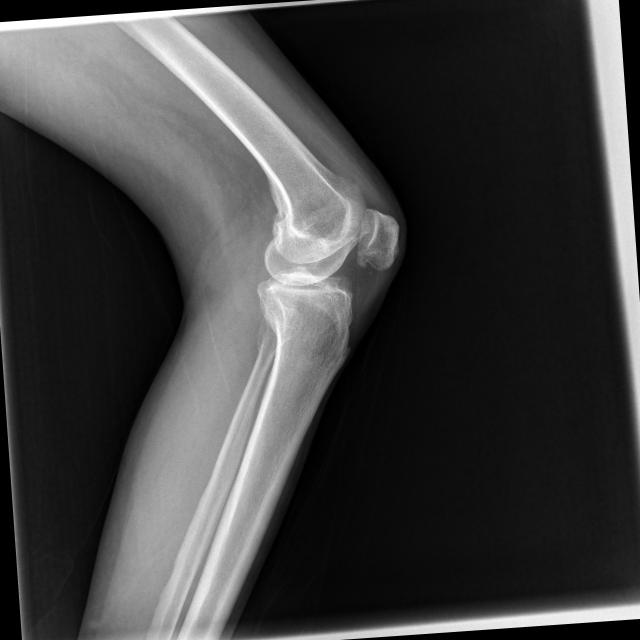Knee: (244, 182, 409, 356)
